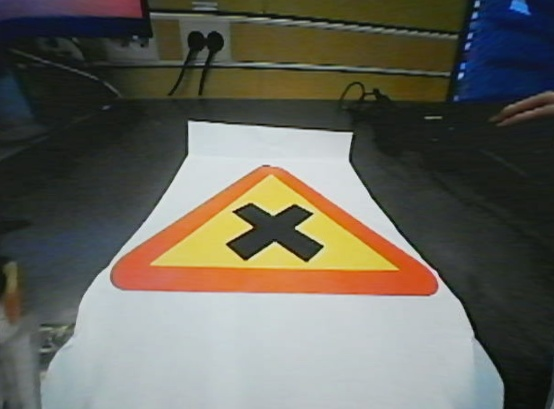junction: (110, 153, 449, 304)
